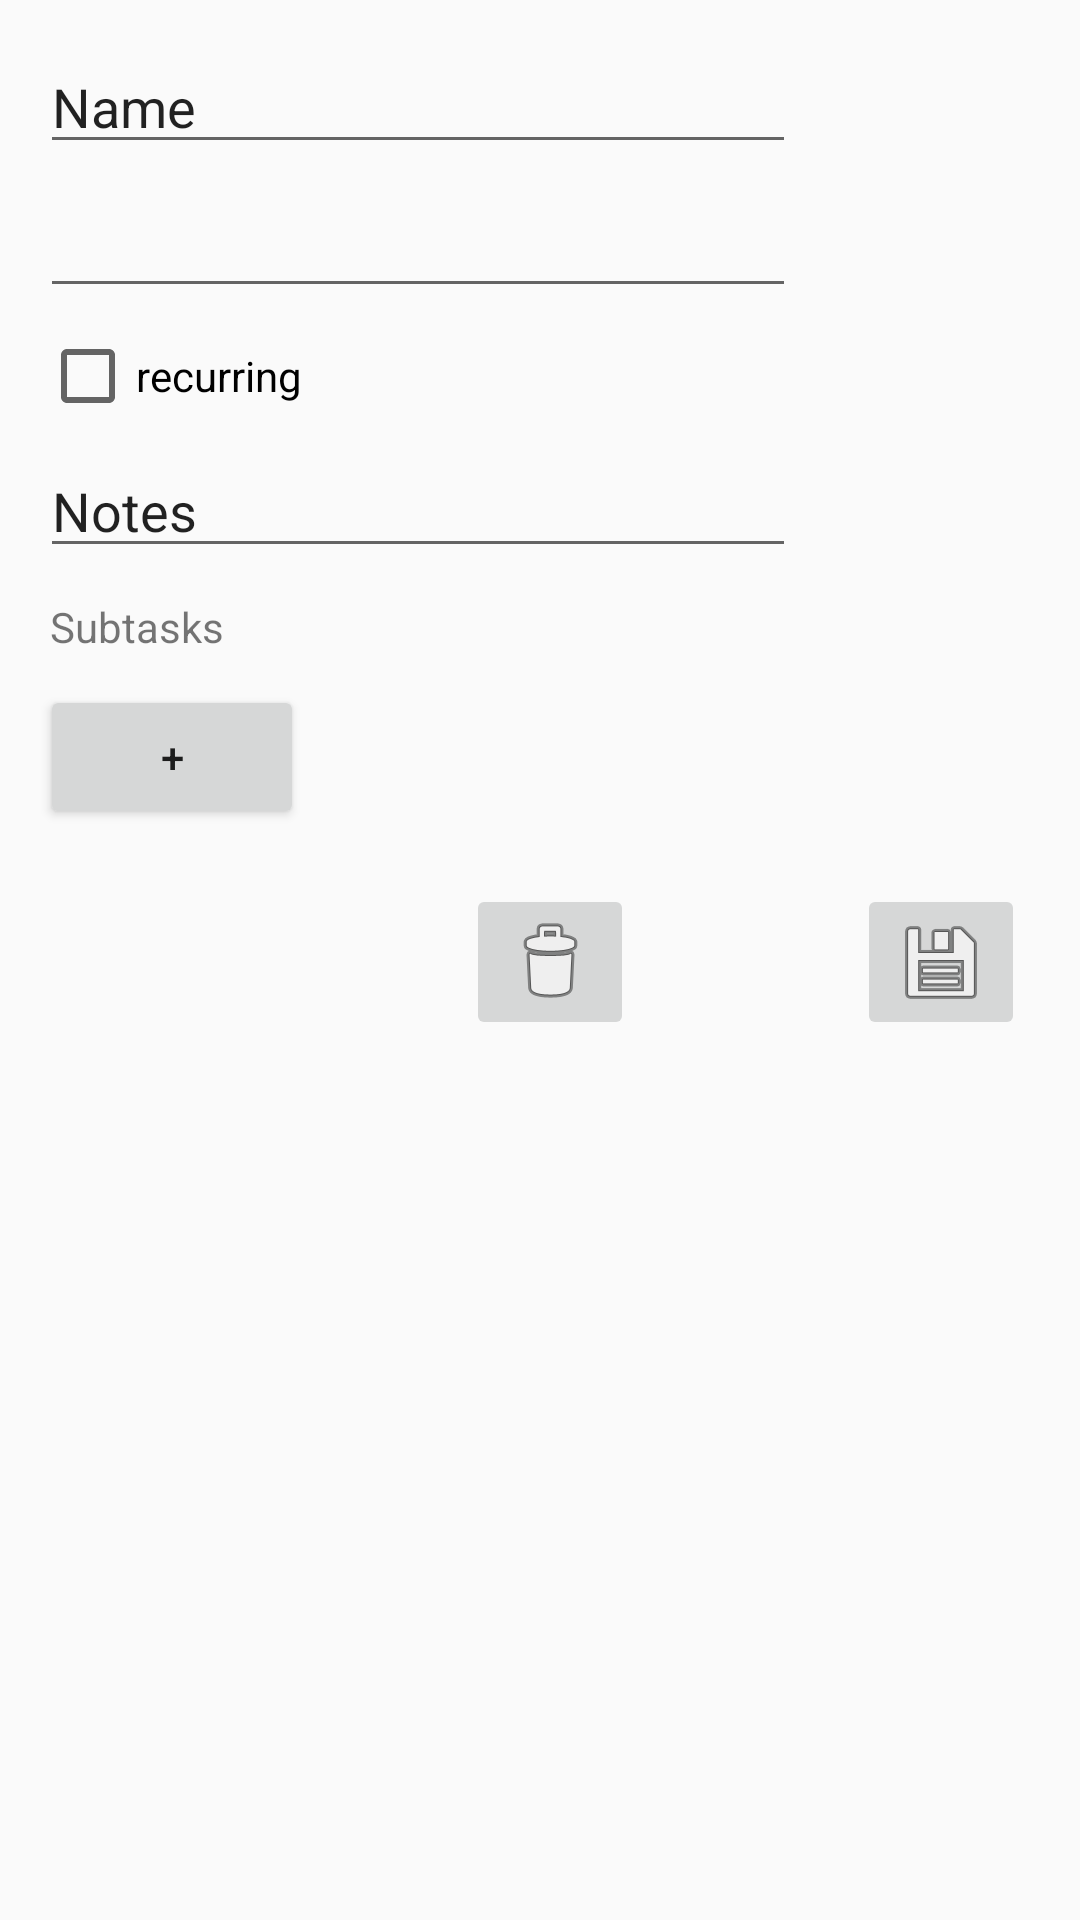

Screen size 1080px x 1920px. Icon name, then its box in pixels as bbox=[x1, y1, x2, y2]:
delete: bbox=[478, 902, 622, 1022]
save: bbox=[869, 902, 1013, 1022]
